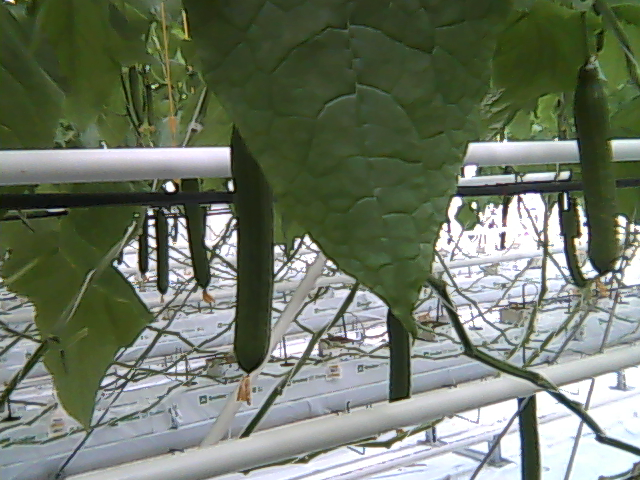concombre: (227, 127, 278, 407), (571, 48, 623, 296)
